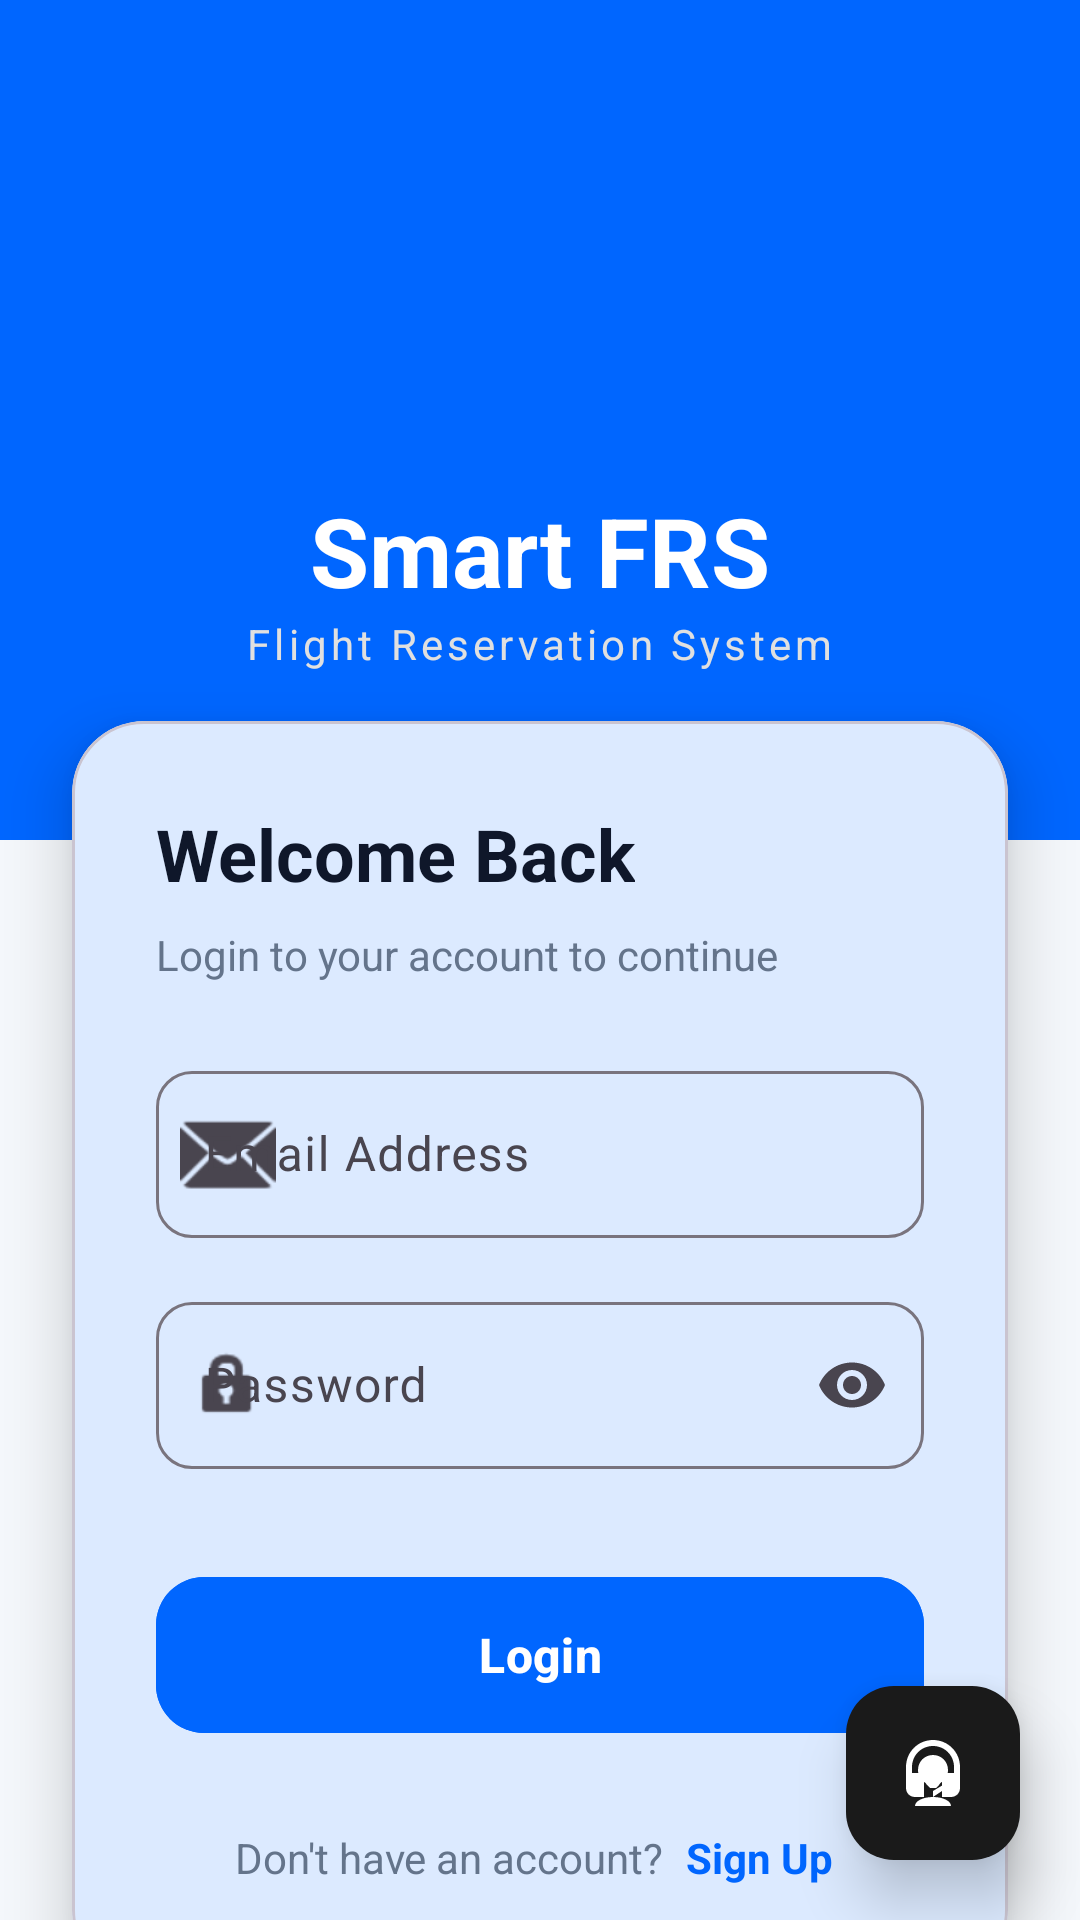

Screen size 1080px×1920px. Icon name, then its center in pixels as [x,y]:
Support: [933,1773]
